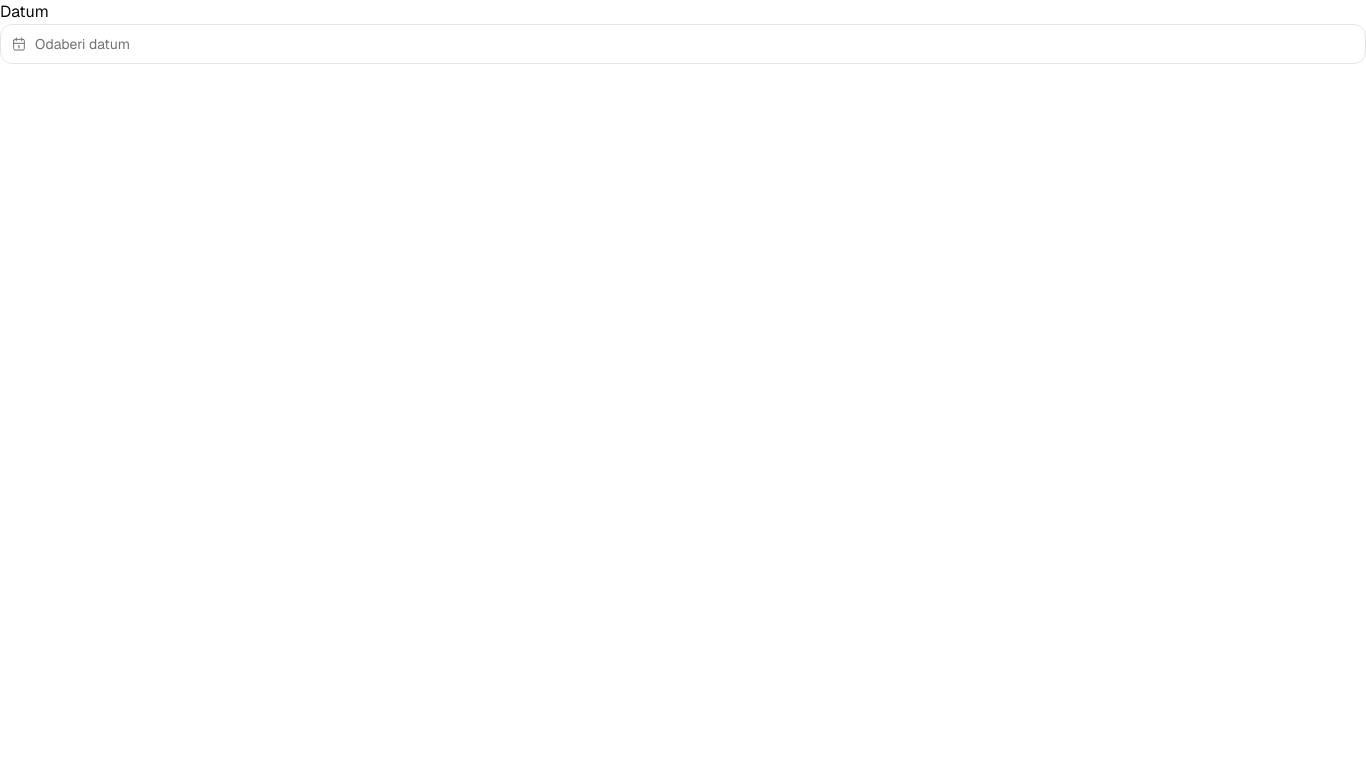
Test: DatePicker › picking a day reports it, shows it formatted and closes the calendar
This screenshot has width=1366, height=768.
What coordinates should you click on to do the following:
click the button labelled "Odaberi datum"
I would click on:
 (82, 44)
Its box is [0,24,1365,64].
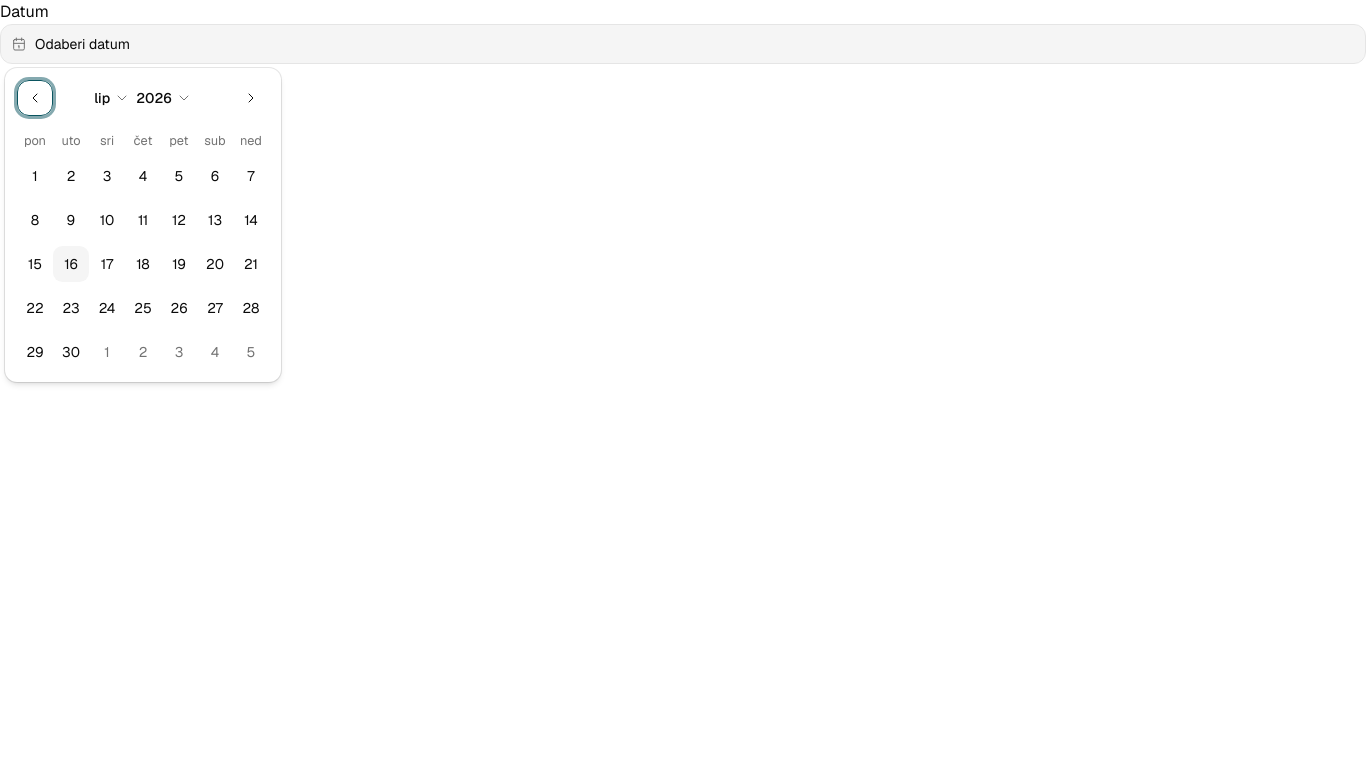
Check: the dialog is shown, box [5,68,281,382]
What coordinates should you click on to do the following:
click the button "23"
I would click on:
 (71, 308)
Its box is [53,290,89,326].
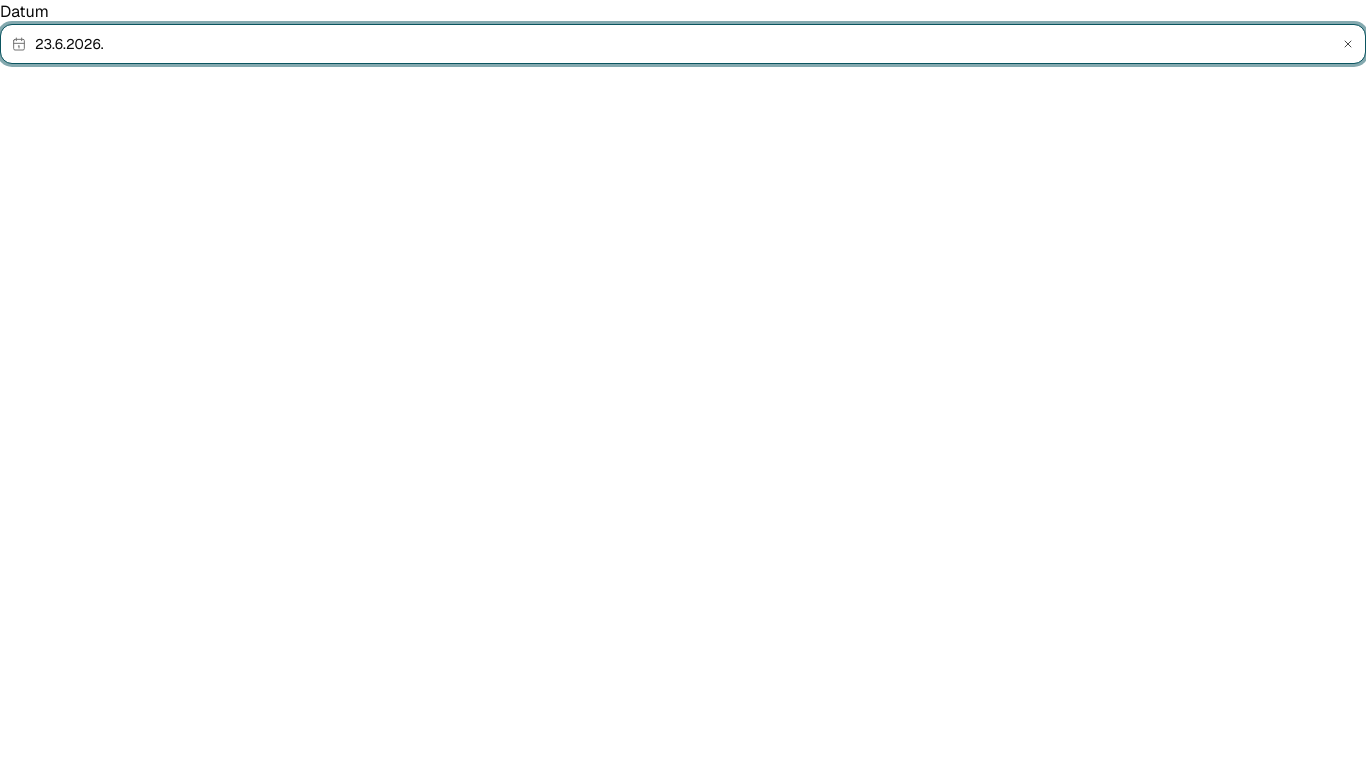
Check: the button named "Datum" reads "23.6.2026.", box [0,24,1365,64]
